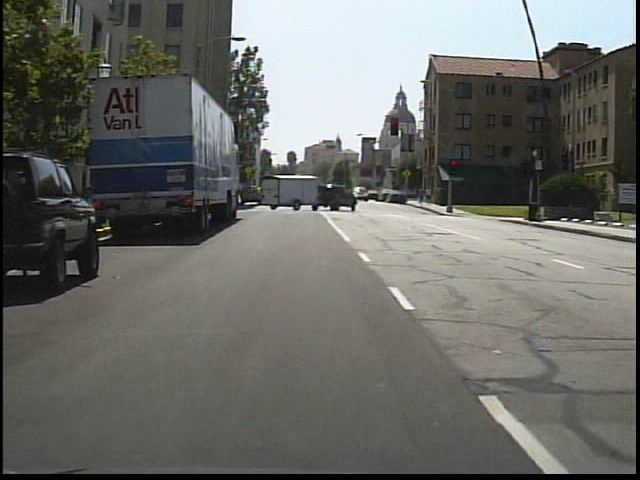person: (426, 184, 438, 210), (417, 186, 425, 208)
